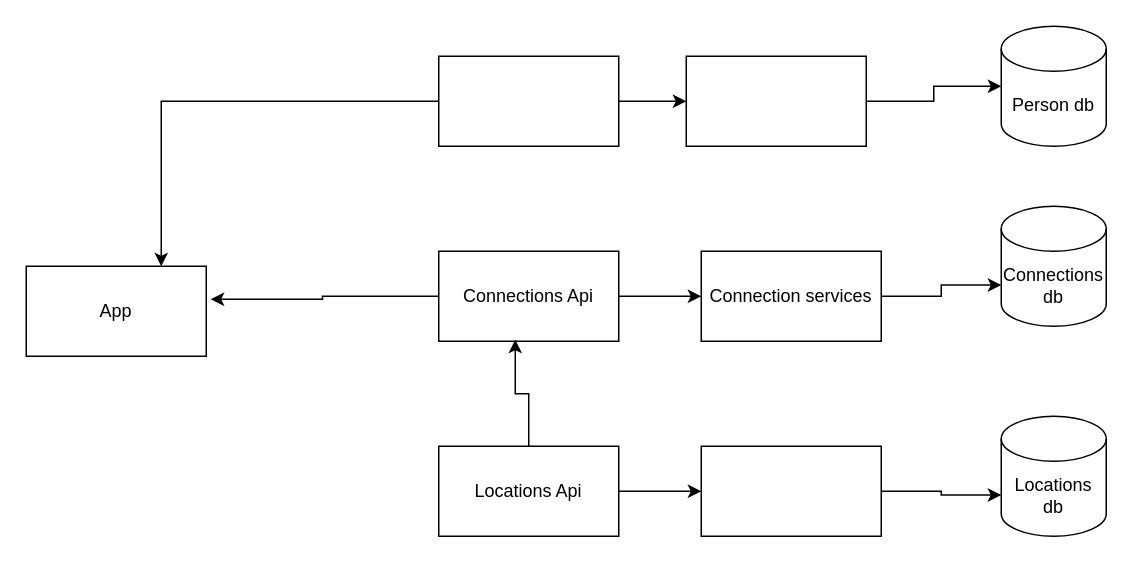
Image size: 1133x563. Some labels were removed from this diagram. The centre of each missing label's shape, as x and y in pixels:
"Location services" goes at pixel 790 490.
"Person services" goes at pixel 775 100.
"Persons Api" goes at pixel 528 100.
